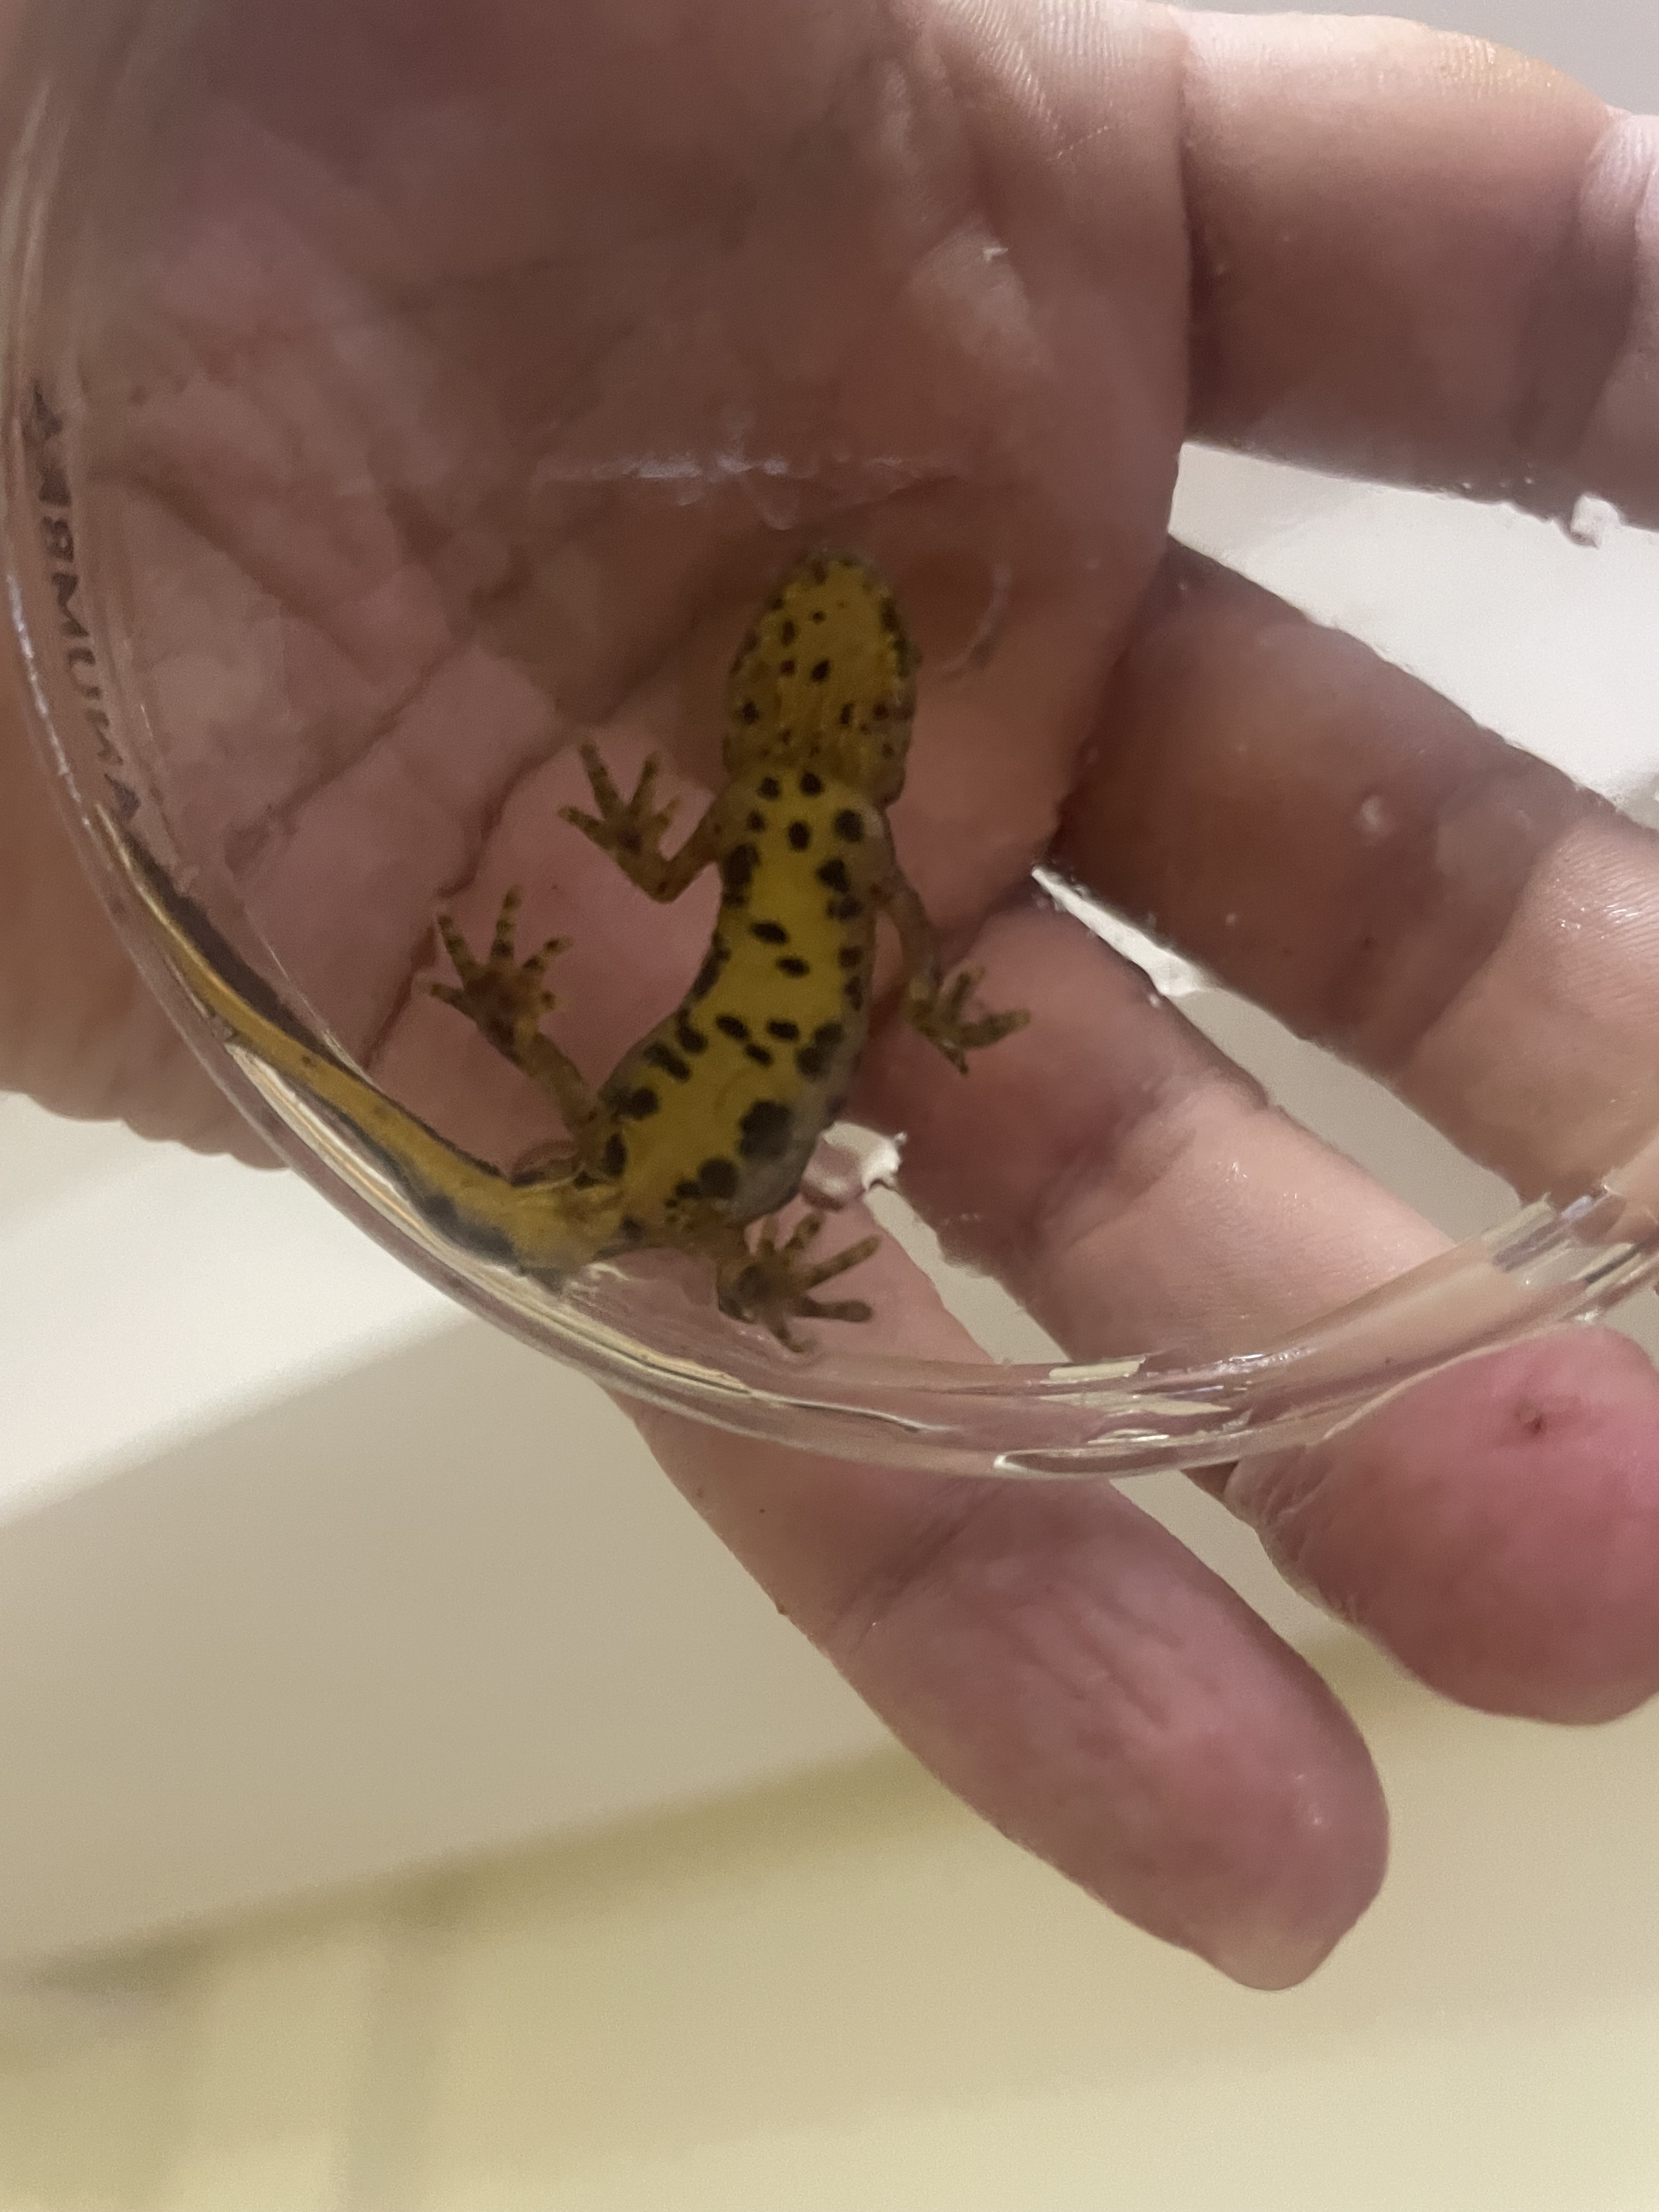Karelin_newt: (592, 864, 878, 1226)
